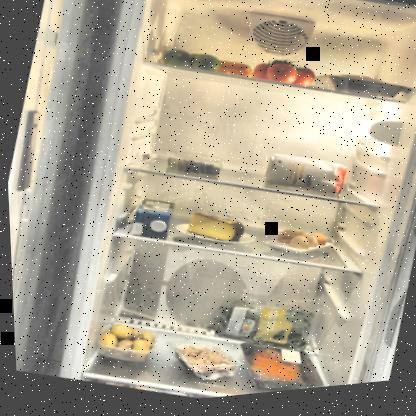beef: (226, 335, 330, 399)
blueberries: (161, 146, 225, 188)
carrot: (159, 46, 263, 92)
cheese: (181, 210, 249, 255)
eggs: (268, 226, 329, 268)
milk: (121, 195, 180, 249)
potato: (90, 318, 157, 373)
shrimp: (164, 340, 239, 390)
spinach: (202, 289, 318, 369)
tomato: (245, 53, 320, 99)
